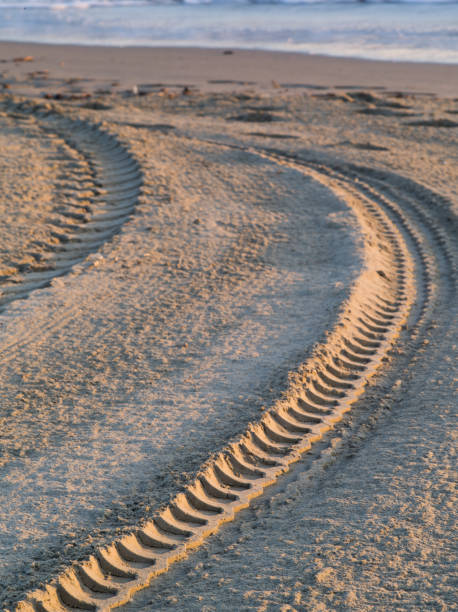vehicle_track: (18, 151, 451, 611), (0, 99, 142, 311)
